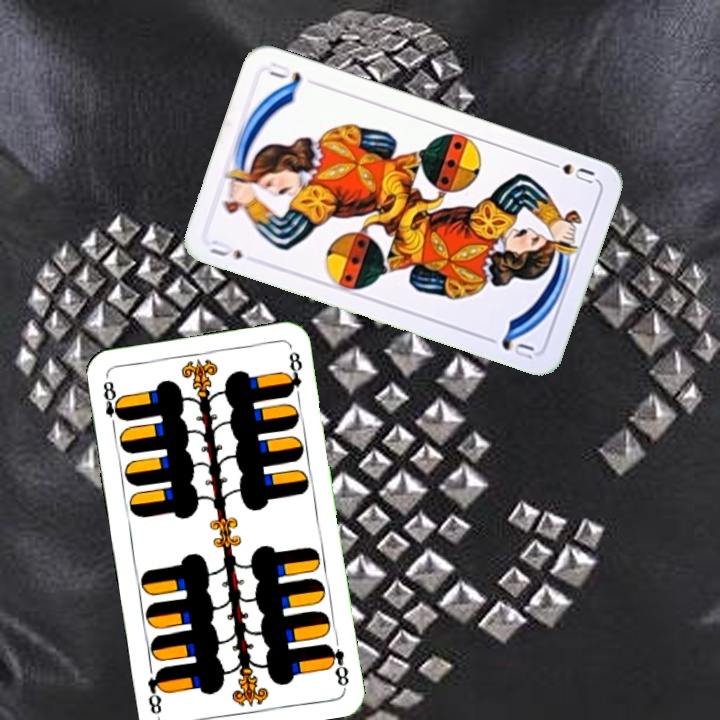E8: (322, 639, 352, 690), (99, 377, 126, 432)
SU: (541, 157, 597, 187), (205, 239, 245, 262)
